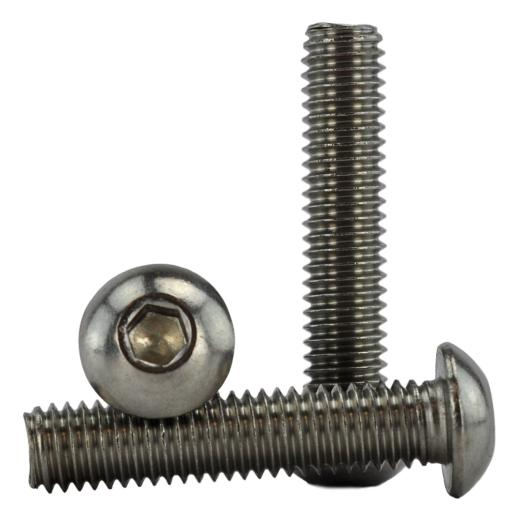Hex-Allen: (76, 259, 237, 420)
